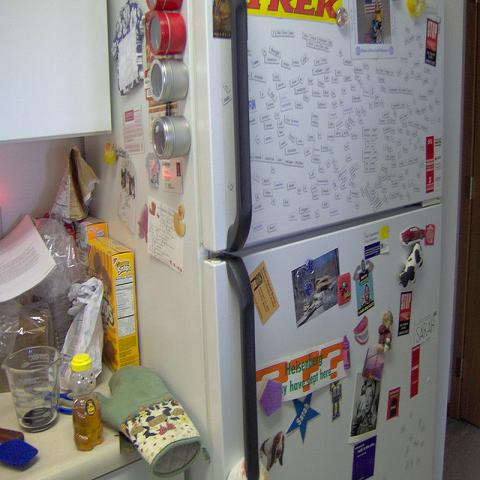car: (401, 224, 428, 246)
